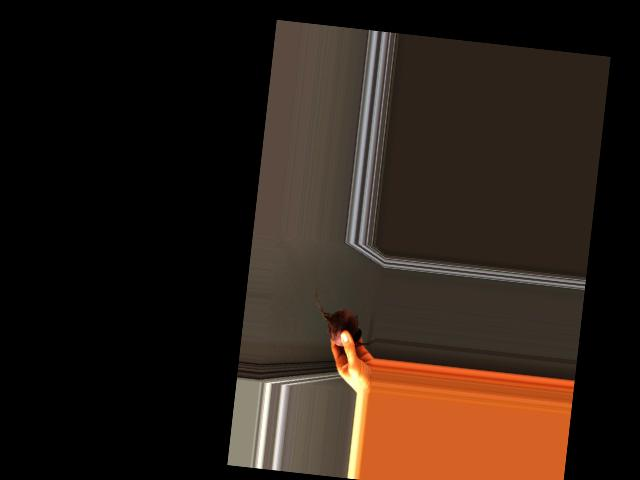beet: (310, 287, 381, 349)
